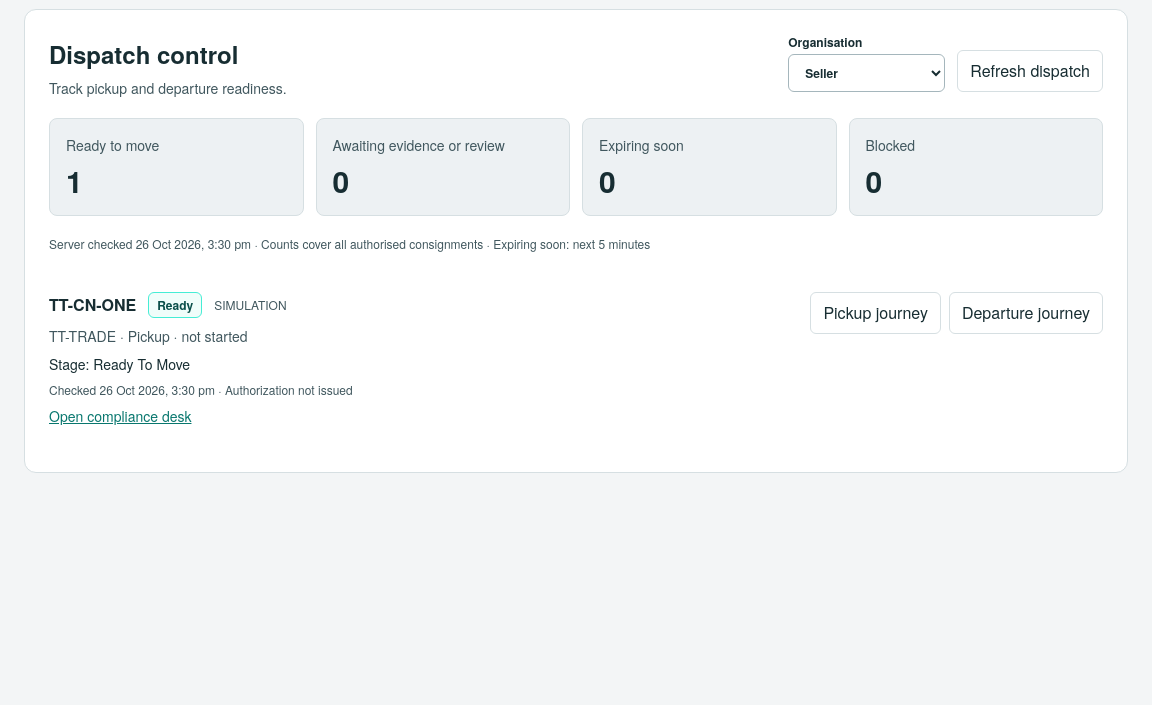
explains shadow candidates, absence-to-presence and missing historical details without accepting evidence
Expected: the heading "TT-CN-ONE" is shown, [49,293,136,317]
Click the button with aria-label "Pickup journey for TT-CN-ONE" at (876, 313), box [810,292,941,334]
(page scrolled)
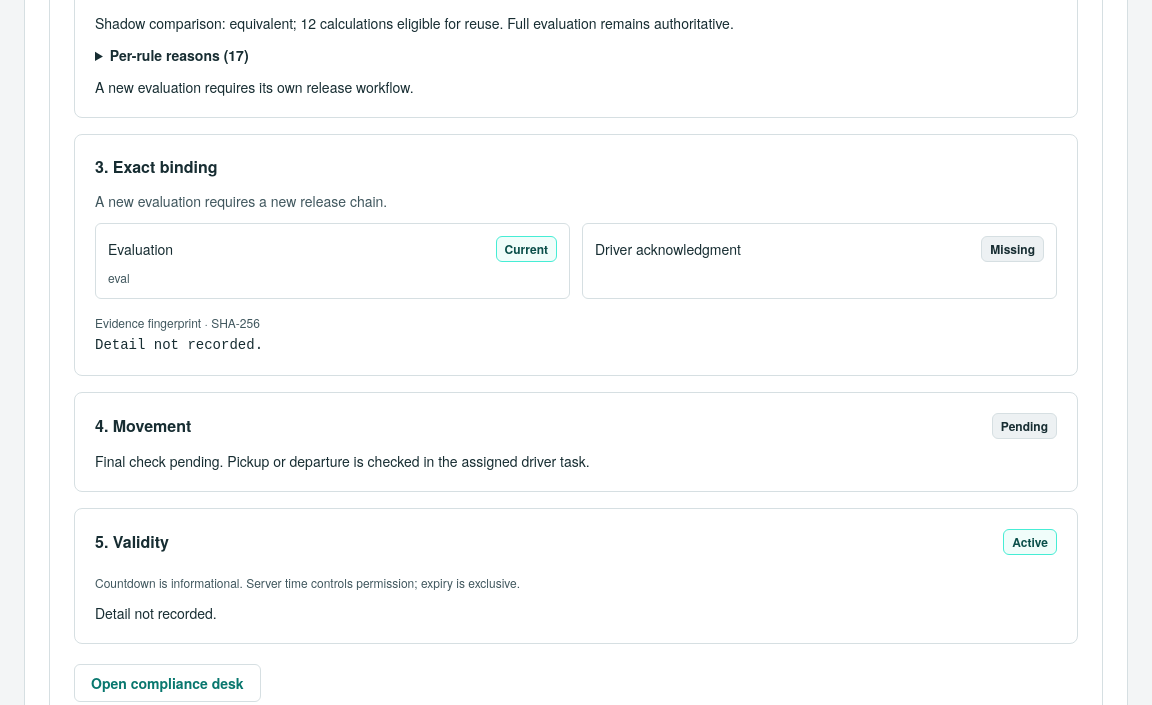
Expected: the text "12 calculations eligible for reuse" is shown, [95,13,734,33]
Expected: the text "Detail not recorded." below "Evidence fingerprint · SHA-256" is shown, [95,337,263,353]
